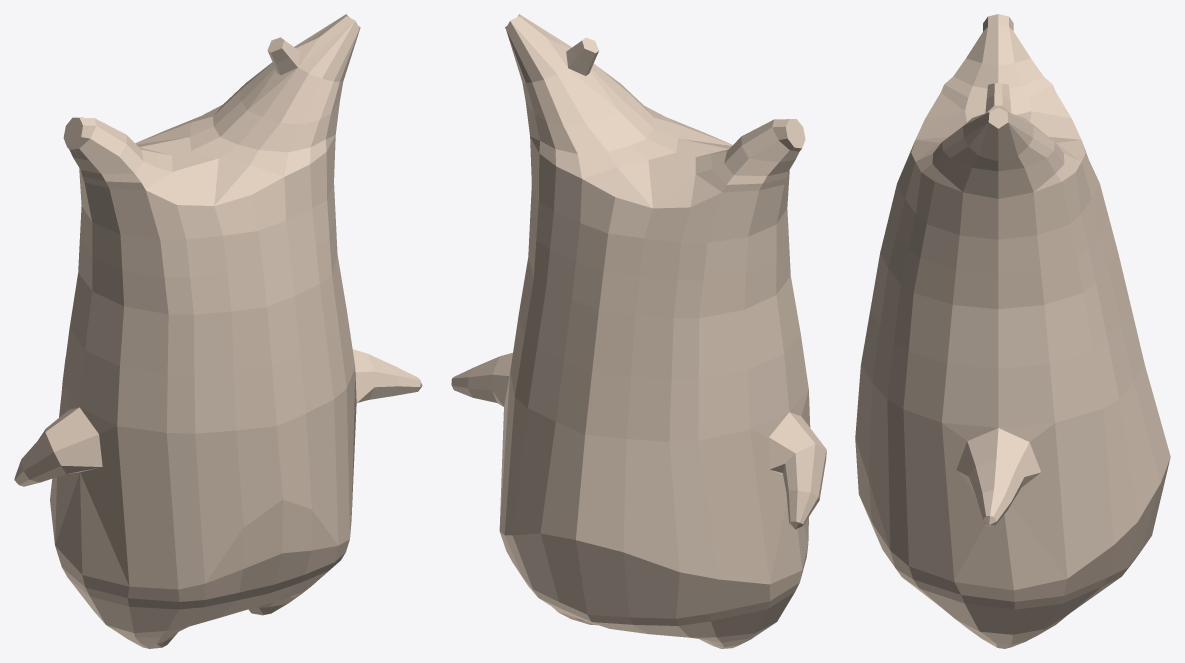
Rendered from frame_0012.obj.
The picture shows the model from 3 angles, left to right: view 1: azimuth 30°, elevation 25°; view 2: azimuth 150°, elevation 25°; view 3: azimuth 270°, elevation 25°; orthographic projection.
Parts seen in each view (by area): view 1: korok; view 2: korok; view 3: korok.
Boxes of the visible parts, x1,y1,x2,y2 form: korok: [14, 14, 422, 648]; korok: [451, 14, 826, 648]; korok: [855, 14, 1170, 648].
Bounding box in the file's own units: 1.48 × 2.16 × 1.07.
